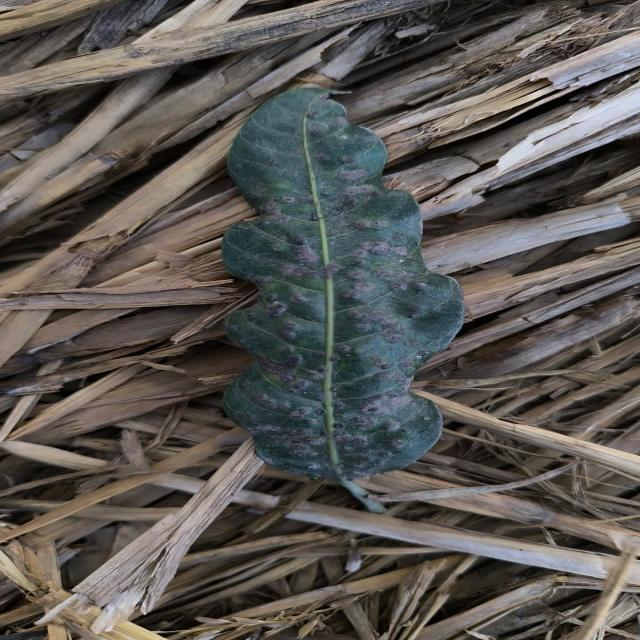gall midge: (284, 208, 406, 423)
